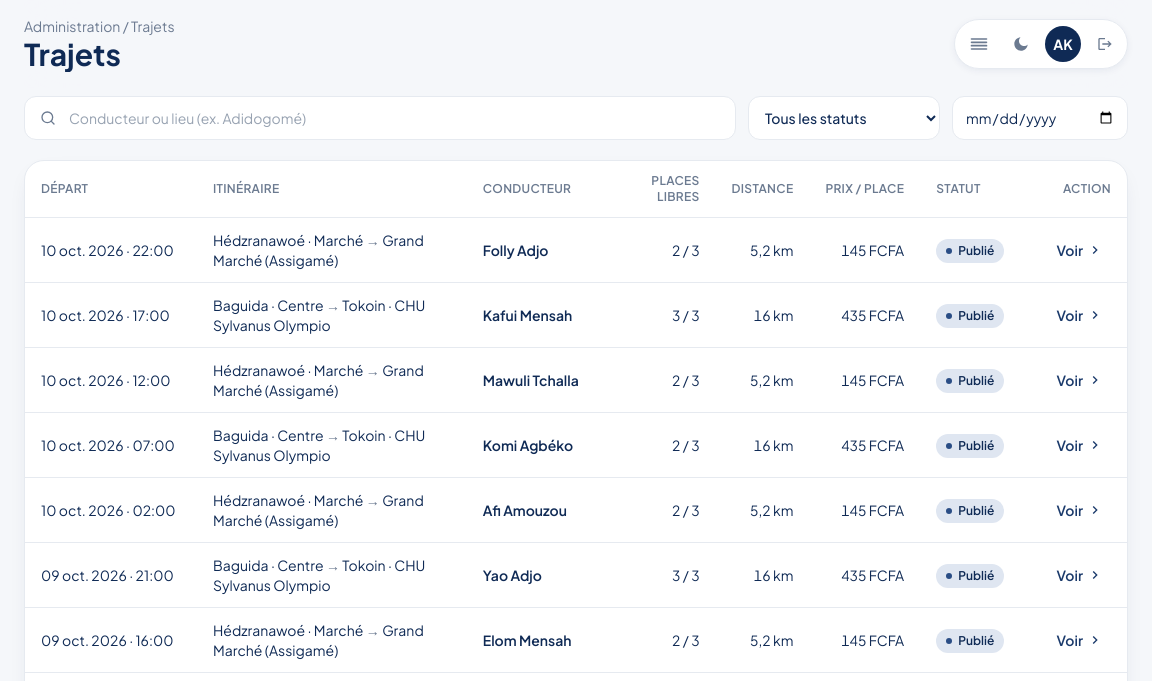
Test: liste des trajets › filtre par statut
Select "Terminé" in the dropdown named "Statut du trajet" at (844, 118), box [748,96,940,140]
(page scrolled)
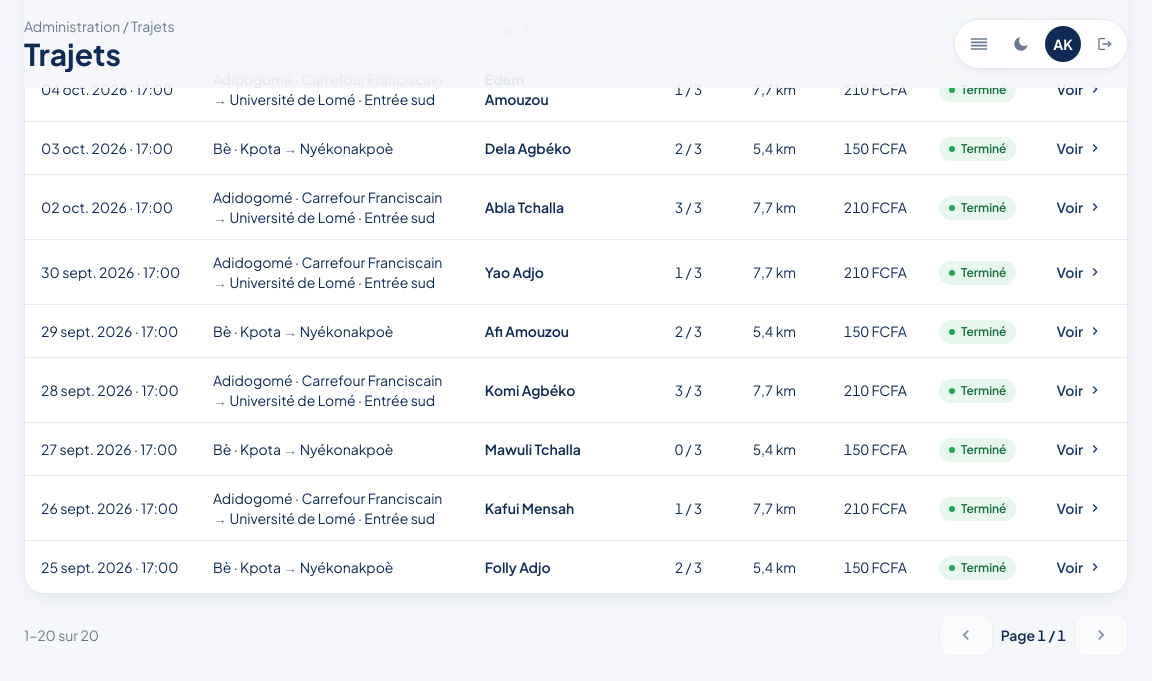
Now the row that starts with "04 oct. 2026 · 17:00" shows "Terminé", box [961,82,1006,96]
Now the row that starts with "03 oct. 2026 · 17:00" shows "Terminé", box [961,140,1006,156]
Now the row that starts with "02 oct. 2026 · 17:00" shows "Terminé", box [961,200,1006,214]
